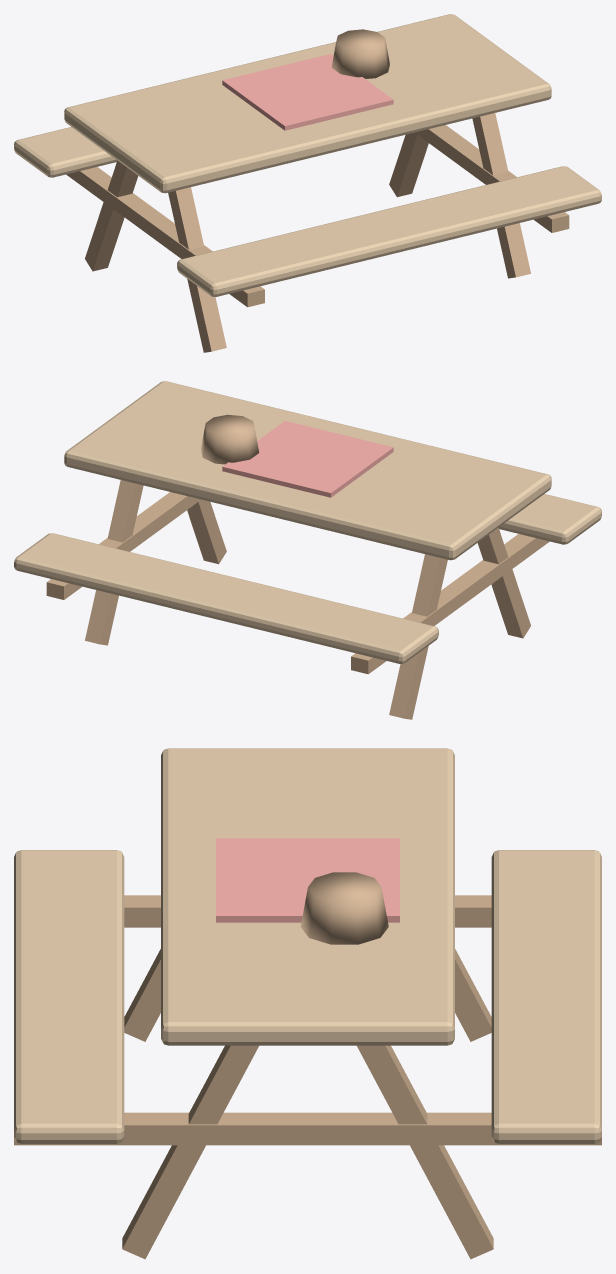
The model's file is picnic_table.glb.
The picture shows the model from 3 angles, top to bottom: view 1: azimuth 30°, elevation 25°; view 2: azimuth 150°, elevation 25°; view 3: azimuth 270°, elevation 25°; orthographic projection. The views are drawn at different scales.
Parts seen in each view (by area): view 1: picnic_table; view 2: picnic_table; view 3: picnic_table.
Part boxes in pixels (x1,y1,x2,y2): picnic_table: [14, 14, 601, 352]; picnic_table: [14, 381, 601, 719]; picnic_table: [14, 748, 601, 1259].
Bounding box in the file's own units: 1.8 × 0.9154 × 1.6.
